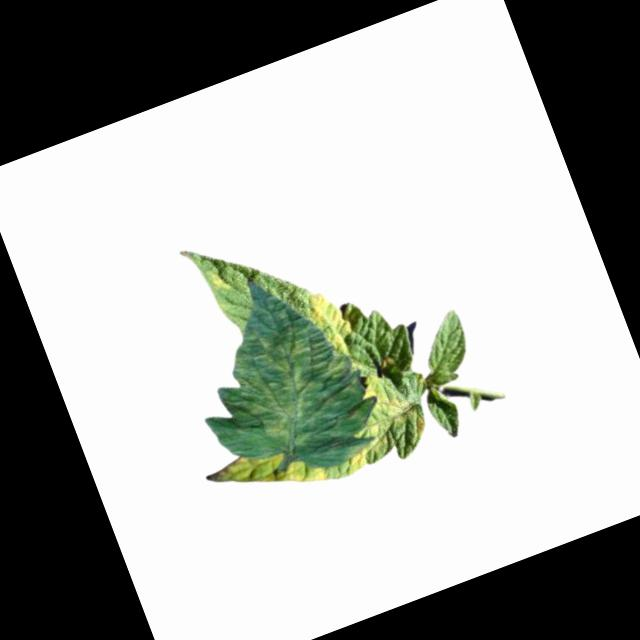Leaf_Mold: (225, 312, 349, 445), (201, 428, 329, 521), (306, 283, 361, 357), (358, 366, 415, 423), (343, 445, 374, 474)
